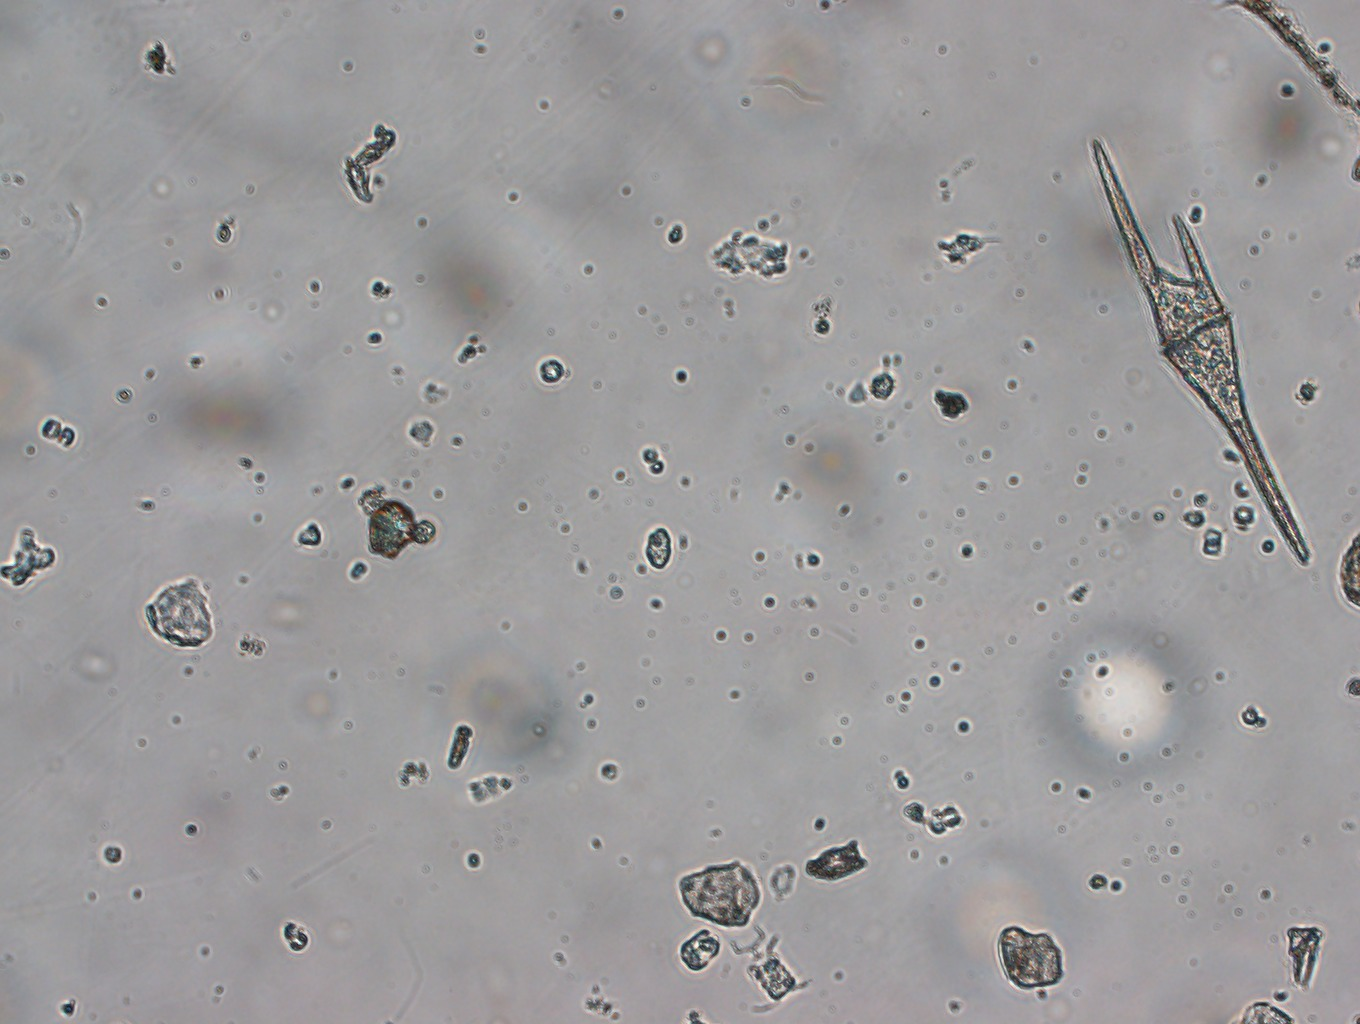ceratium furca: (1069, 124, 1317, 574)
